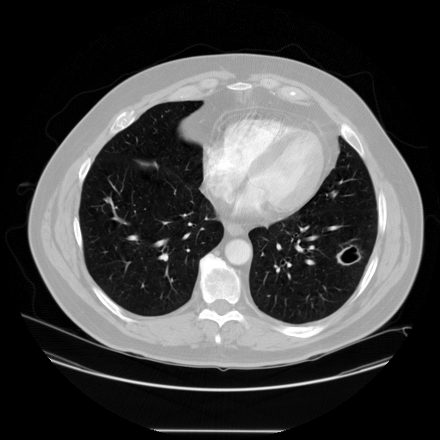nodule: (338, 244, 360, 266)
